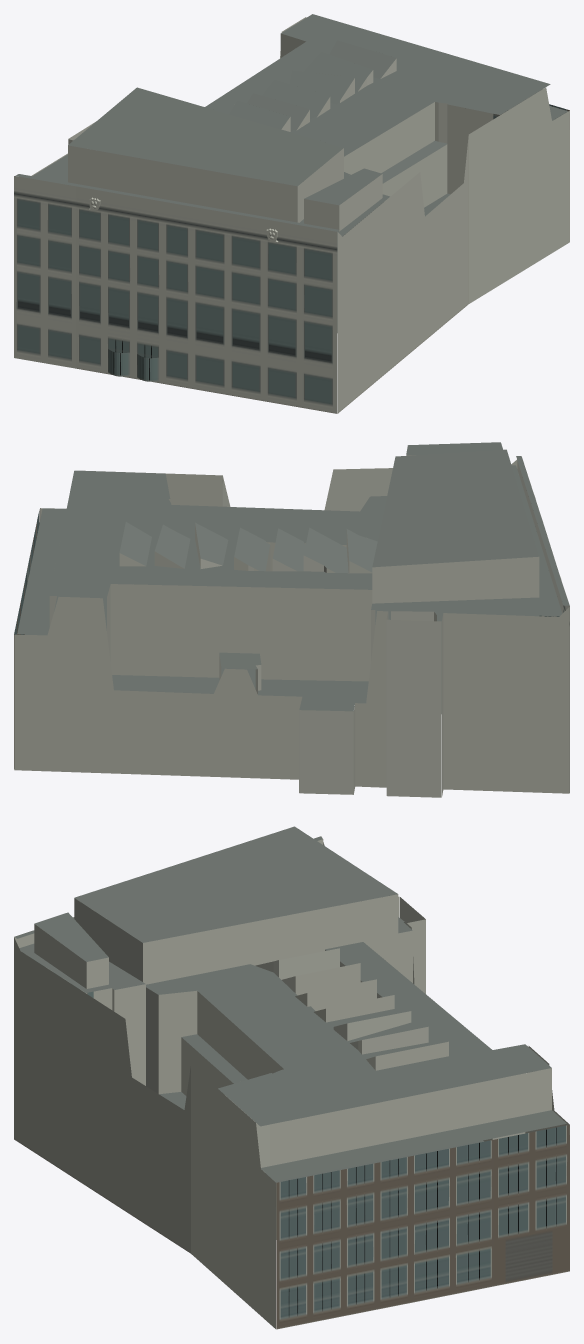
The picture shows the model from 3 angles, top to bottom: view 1: azimuth 30°, elevation 25°; view 2: azimuth 150°, elevation 25°; view 3: azimuth 270°, elevation 25°; orthographic projection. The views are drawn at different scales.
Parts seen in each view (by area): view 1: 0363100012168534; view 2: 0363100012168534; view 3: 0363100012168534.
Part boxes in pixels (x1,y1,x2,y2): 0363100012168534: [14, 14, 569, 413]; 0363100012168534: [14, 442, 569, 797]; 0363100012168534: [14, 826, 569, 1329].
Bounding box in the file's own units: 55.83 × 21.04 × 45.12.
Materials: 3 (1 with a texture image).
